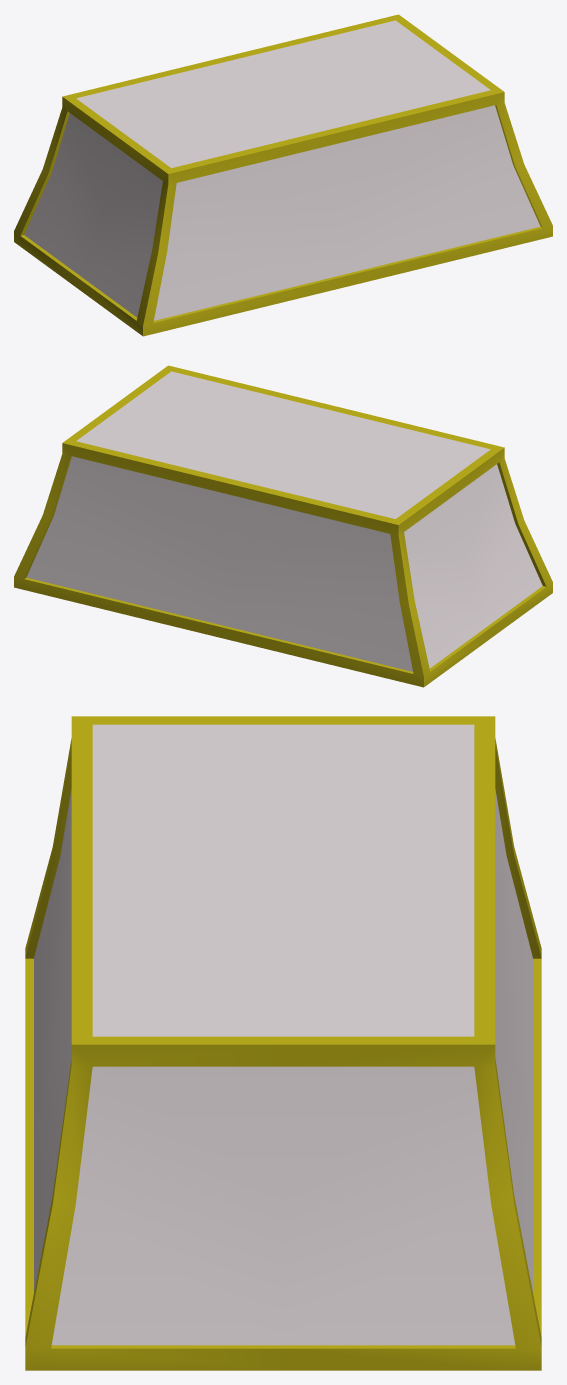
Rendered from Altarmio.fbx.
3 views of the same model, one above another, from view 1: azimuth 30°, elevation 25°; view 2: azimuth 150°, elevation 25°; view 3: azimuth 270°, elevation 25° (orthographic). The views are drawn at different scales.
Parts seen in each view (by area): view 1: Altar; view 2: Altar; view 3: Altar.
Boxes of the visible parts, box(x1,y1,x2,y2) form: Altar: box(14, 14, 552, 336); Altar: box(14, 365, 552, 687); Altar: box(25, 716, 541, 1370).
Size of the model in its own units: 246 by 83.24 by 134.
